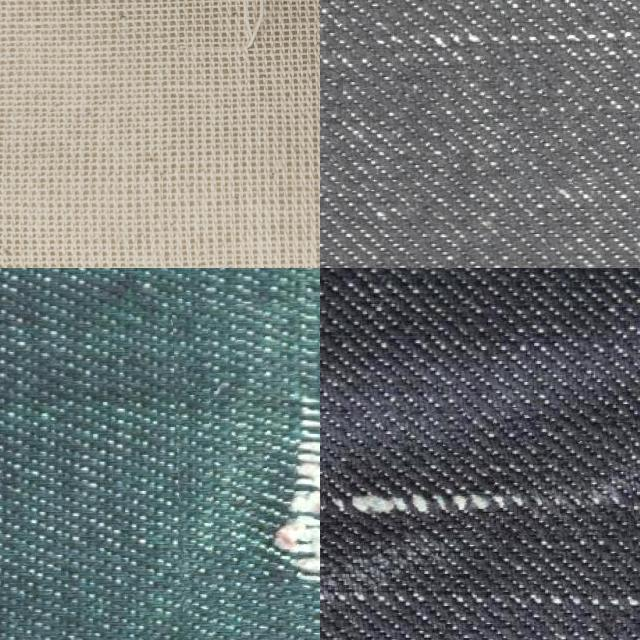stains: (320, 0, 640, 187), (174, 300, 320, 640), (320, 406, 633, 540), (320, 571, 640, 640)
